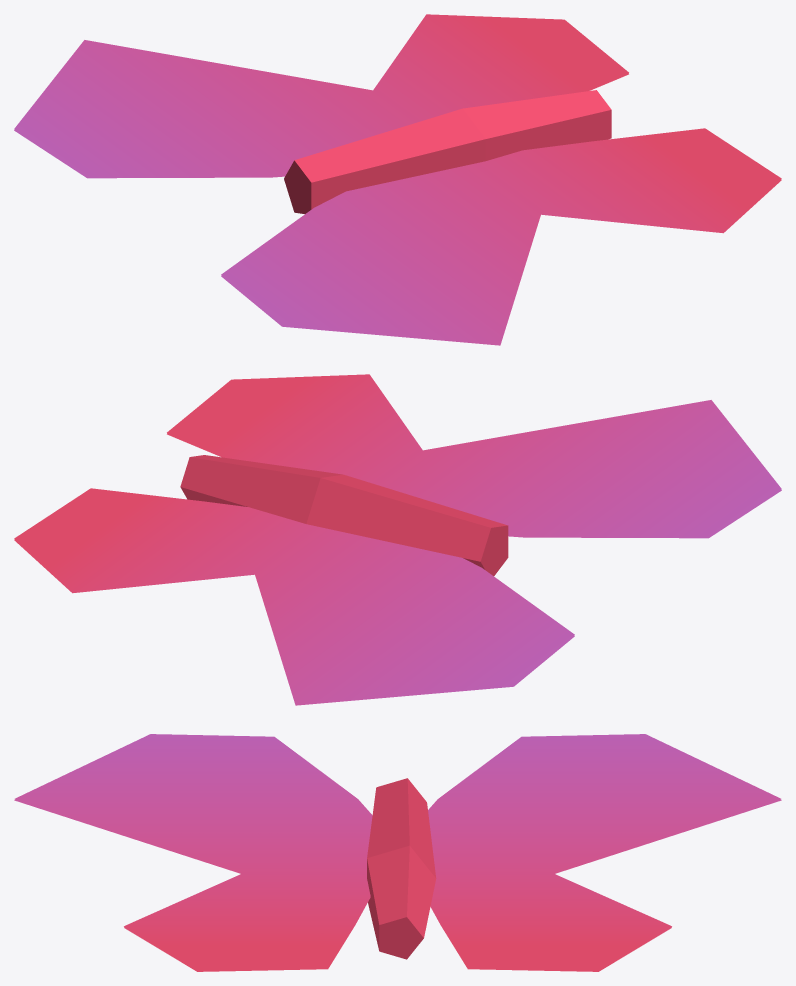
The model's file is papillon.fbx.
The picture shows the model from 3 angles, top to bottom: view 1: azimuth 30°, elevation 25°; view 2: azimuth 150°, elevation 25°; view 3: azimuth 270°, elevation 25°; orthographic projection. The views are drawn at different scales.
Visible parts, largest first — view 1: Papillon; view 2: Papillon; view 3: Papillon.
Boxes of the visible parts, left/top/right/bottom form: Papillon: left=14, top=14, right=781, bottom=345; Papillon: left=14, top=374, right=781, bottom=705; Papillon: left=14, top=734, right=781, bottom=971.
Size of the model in its own units: 92.24 by 11.99 by 127.
